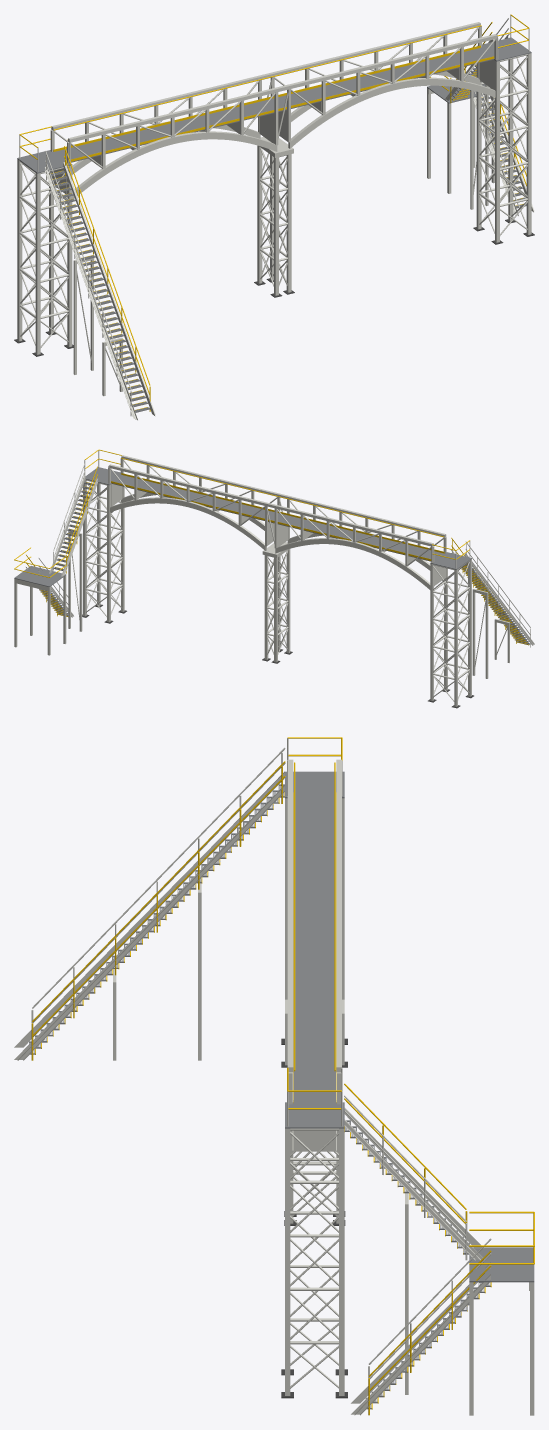
File: Rail_Footbridge.glb
3 renders of one model, top to bottom at view 1: azimuth 30°, elevation 25°; view 2: azimuth 150°, elevation 25°; view 3: azimuth 270°, elevation 25°, orthographic. The views are drawn at different scales.
Visible parts, largest first — view 1: deck_grating_66d4c4, top_chord_-1_a43ac3, arch_chord_-1_-1_c79786, arch_chord_-1_1_a90346, top_chord_1_bf2960, top_chord_-1_60be4c, top_chord_1_4f26bb, toe_plate_1, toe_plate_-1_011a00, handrail_1_8b918e, west_tower_leg_1_0415b0, east_tower_leg_3_49ef7c (+15 smaller); view 2: deck_grating_66d4c4, top_chord_1_94c7af, arch_chord_1_-1_b4ec41, arch_chord_1_1_50631e, top_chord_-1_db5f67, top_chord_-1_60be4c, top_chord_1_4f26bb, toe_plate_-1_ecec96, toe_plate_1_3e189e, east_stair_landing_badaae, handrail_-1, west_tower_leg_2_e8fc6a (+6 smaller); view 3: deck_grating_66d4c4, top_chord_-1_60be4c, east_stair_landing_badaae, west_stair_stringer_-1_ec8dc4, top_chord_1_4f26bb, west_stair_stringer_1_0dd18a, east_tower_leg_1_970c57, east_tower_leg_2, east_top_platform_c64340, west_top_platform_272e78, east_stair_lower_stringer_1_da5306, east_stair_upper_stringer_1_f27b55 (+3 smaller).
Boxes of the visible parts, left/top/right/bottom form: deck_grating_66d4c4: left=54, top=48, right=492, bottom=161; top_chord_-1_a43ac3: left=70, top=35, right=497, bottom=142; arch_chord_-1_-1_c79786: left=290, top=79, right=495, bottom=148; arch_chord_-1_1_a90346: left=72, top=132, right=277, bottom=198; top_chord_1_bf2960: left=53, top=23, right=480, bottom=130; top_chord_-1_60be4c: left=68, top=34, right=496, bottom=139; top_chord_1_4f26bb: left=52, top=22, right=480, bottom=127; toe_plate_1: left=53, top=45, right=480, bottom=151; toe_plate_-1_011a00: left=71, top=56, right=494, bottom=161; handrail_1_8b918e: left=54, top=25, right=481, bottom=130; west_tower_leg_1_0415b0: left=37, top=173, right=40, bottom=354; east_tower_leg_3_49ef7c: left=496, top=61, right=499, bottom=242; deck_grating_66d4c4: left=114, top=475, right=442, bottom=559; top_chord_1_94c7af: left=109, top=465, right=431, bottom=546; arch_chord_1_-1_b4ec41: left=110, top=498, right=265, bottom=550; arch_chord_1_1_50631e: left=275, top=539, right=430, bottom=589; top_chord_-1_db5f67: left=121, top=456, right=444, bottom=537; top_chord_-1_60be4c: left=122, top=455, right=445, bottom=534; top_chord_1_4f26bb: left=109, top=464, right=432, bottom=543; toe_plate_-1_ecec96: left=121, top=473, right=444, bottom=553; toe_plate_1_3e189e: left=111, top=481, right=431, bottom=560; east_stair_landing_badaae: left=14, top=566, right=65, bottom=586; handrail_-1: left=121, top=458, right=443, bottom=537; west_tower_leg_2_e8fc6a: left=454, top=569, right=456, bottom=706; deck_grating_66d4c4: left=293, top=795, right=335, bottom=1103; top_chord_-1_60be4c: left=287, top=759, right=293, bottom=1067; east_stair_landing_badaae: left=469, top=1247, right=534, bottom=1280; west_stair_stringer_-1_ec8dc4: left=14, top=786, right=284, bottom=1059; top_chord_1_4f26bb: left=336, top=759, right=341, bottom=1067; west_stair_stringer_1_0dd18a: left=14, top=773, right=284, bottom=1047; east_tower_leg_1_970c57: left=339, top=1128, right=344, bottom=1395; east_tower_leg_2: left=285, top=1128, right=290, bottom=1395; east_top_platform_c64340: left=285, top=1102, right=344, bottom=1127; west_top_platform_272e78: left=285, top=771, right=344, bottom=796; east_stair_lower_stringer_1_da5306: left=351, top=1276, right=490, bottom=1414; east_stair_upper_stringer_1_f27b55: left=344, top=1121, right=484, bottom=1259.
Bounding box in the file's own units: 24.73 × 9.35 × 14.46.
